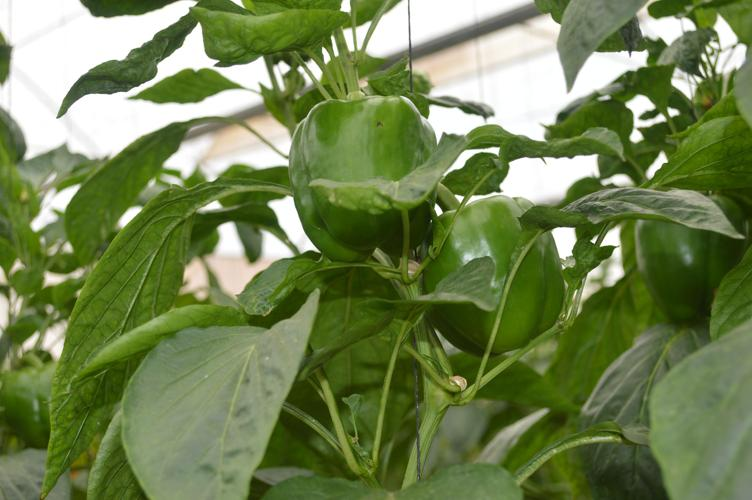BellPepper: (287, 95, 434, 256), (423, 197, 566, 350), (632, 198, 738, 321), (4, 364, 51, 444)
